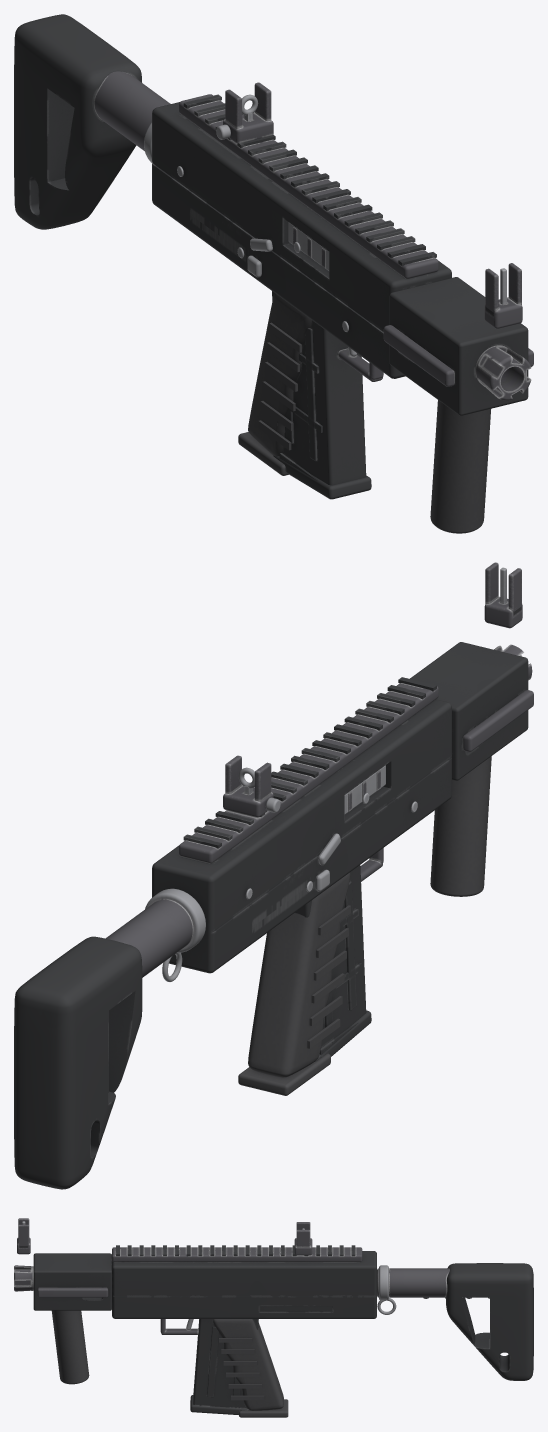
3 views of the same model, one above another, from view 1: azimuth 30°, elevation 25°; view 2: azimuth 150°, elevation 25°; view 3: azimuth 270°, elevation 25° (orthographic). The views are drawn at different scales.
Parts seen in each view (by area): view 1: mp7; view 2: mp7; view 3: mp7.
Part boxes in pixels (left/top/right/bottom): mp7: left=14, top=14, right=533, bottom=533; mp7: left=14, top=562, right=533, bottom=1189; mp7: left=14, top=1218, right=533, bottom=1417.
Bounding box in the file's own units: 0.057 × 0.2133 × 0.5299.
